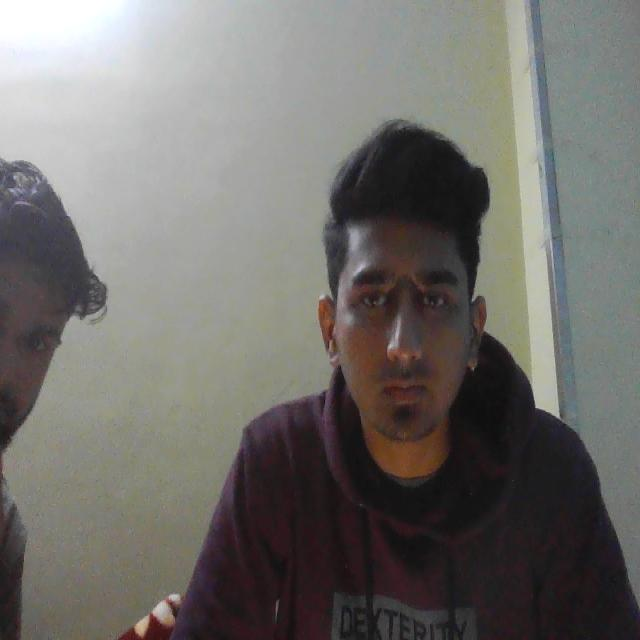real: (320, 143, 492, 468)
